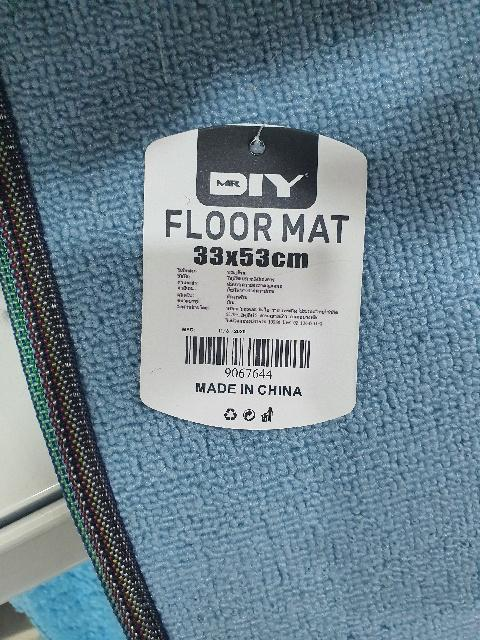Barcode: (174, 327, 324, 379)
